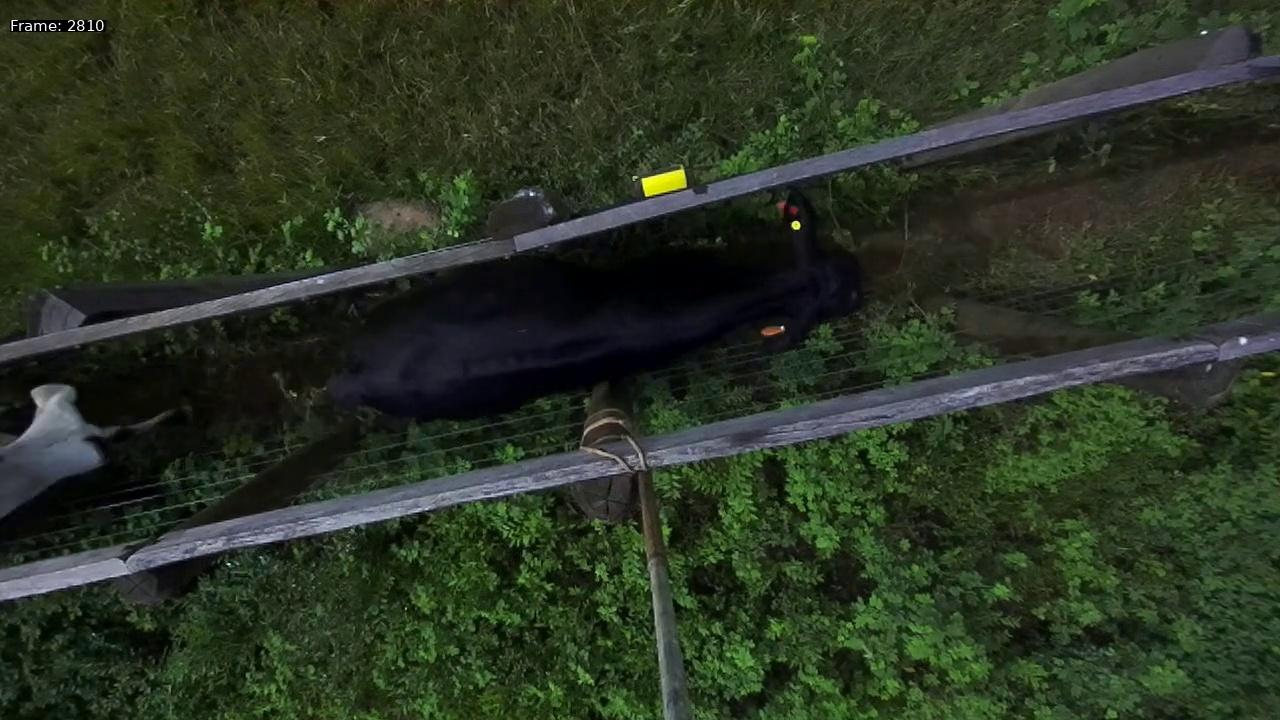cattle: (310, 170, 877, 437)
